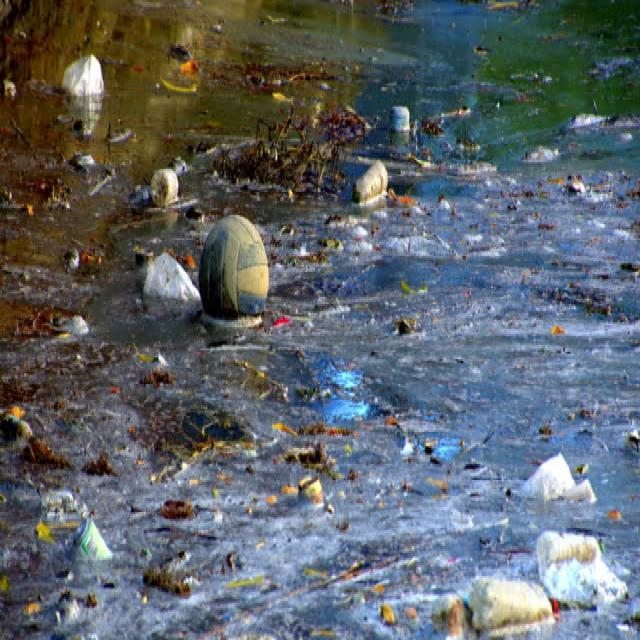plastic: (466, 532, 603, 628)
